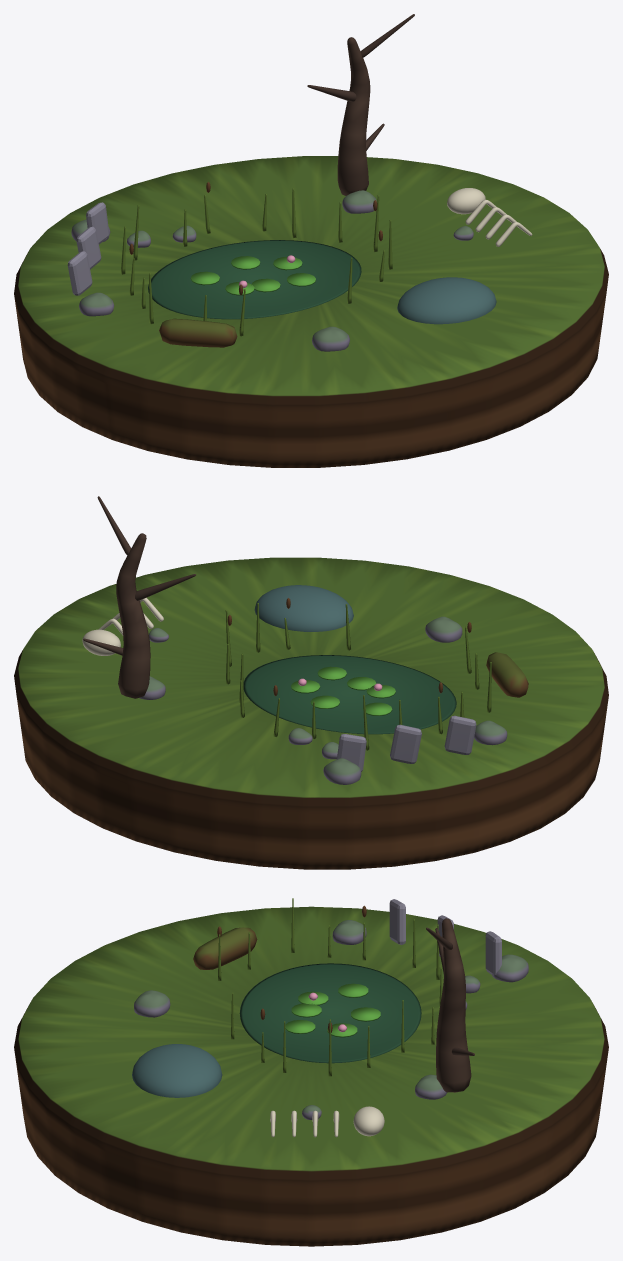
Rendered from swamp.glb.
3 views of the same model, one above another, from view 1: azimuth 30°, elevation 25°; view 2: azimuth 150°, elevation 25°; view 3: azimuth 270°, elevation 25° (orthographic). The views are drawn at different scales.
Parts seen in each view (by area): view 1: swamp; view 2: swamp; view 3: swamp.
Boxes of the visible parts, x1,y1,x2,y2 form: swamp: (14, 14, 608, 467); swamp: (14, 496, 608, 869); swamp: (14, 898, 608, 1246).
Bounding box in the file's own units: 6.6 × 3.1 × 6.2.
